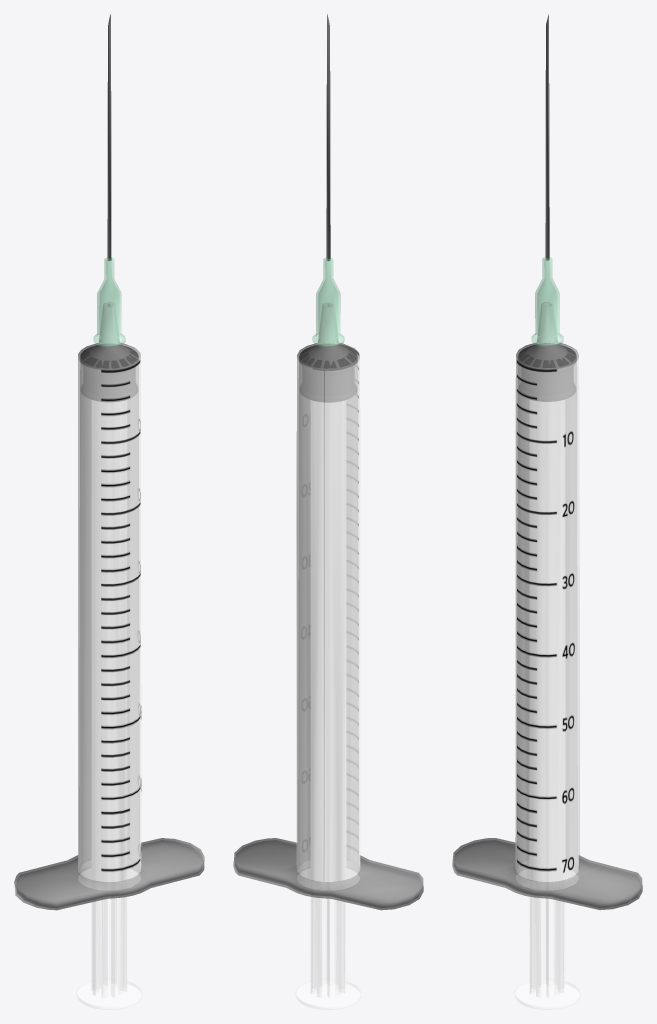
The model's file is syringe.glb.
3 renders of one model, left to right at view 1: azimuth 30°, elevation 25°; view 2: azimuth 150°, elevation 25°; view 3: azimuth 330°, elevation 25°, orthographic.
Visible parts, largest first — view 1: Tube, Plunger, Tip; view 2: Tube, Plunger, Tip; view 3: Tube, Plunger, Tip.
Part boxes in pixels (left/top/right/bottom): Tube: left=14, top=302, right=204, bottom=910; Plunger: left=77, top=345, right=141, bottom=1009; Tip: left=93, top=14, right=125, bottom=346; Tube: left=233, top=302, right=423, bottom=910; Plunger: left=296, top=345, right=360, bottom=1009; Tip: left=312, top=14, right=344, bottom=346; Tube: left=452, top=302, right=642, bottom=910; Plunger: left=515, top=345, right=579, bottom=1009; Tip: left=531, top=14, right=563, bottom=346.
Size of the model in its own units: 0.0559 by 0.2952 by 0.025.
5 materials, 1 textured.
